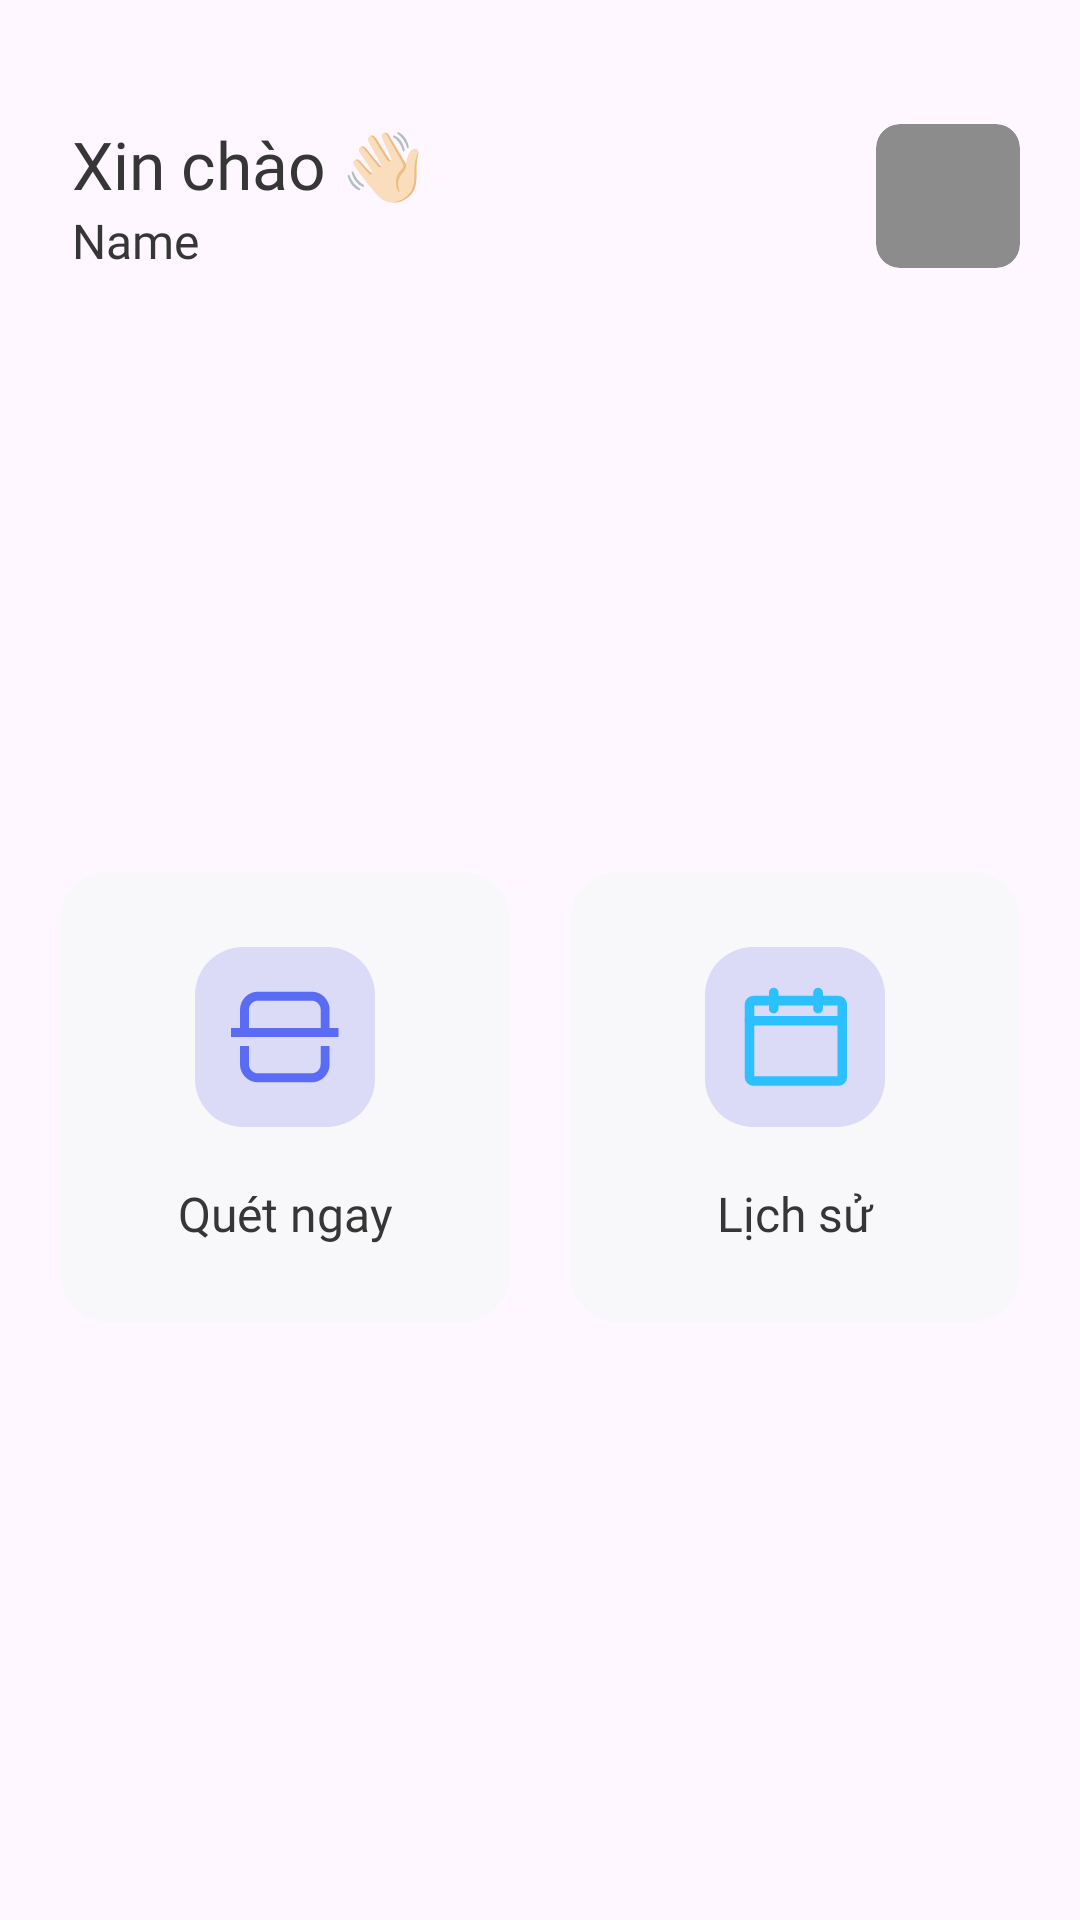

Point at icon controls on the screen. Image size 1080px x 1920px, points as (x=x, y=y).
history: (x=795, y=1037)
scan: (x=285, y=1037)
